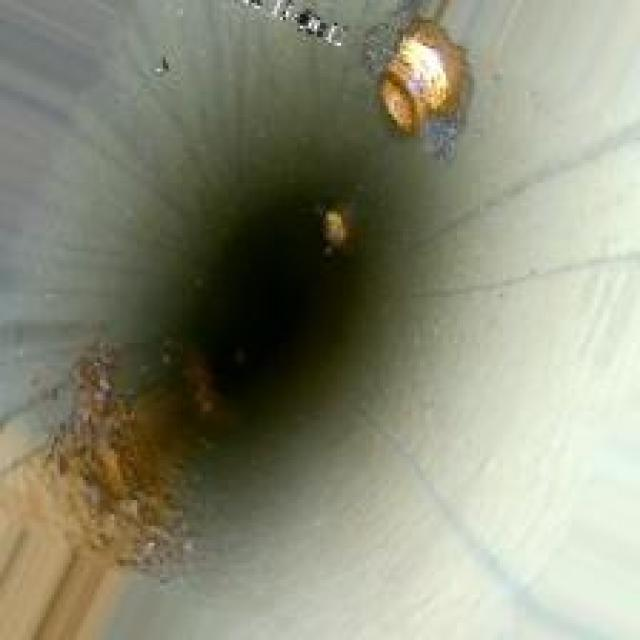ferrule: (377, 14, 474, 146), (303, 203, 351, 251)
